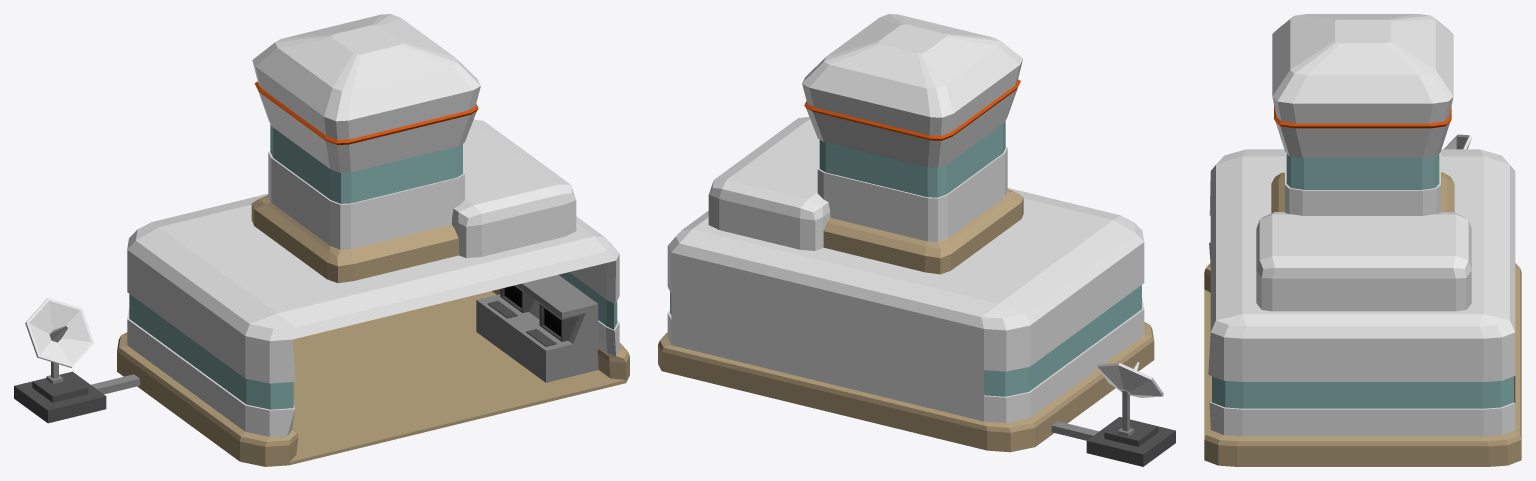
Rendered from SpaceControlCentre.fbx.
3 renders of one model, left to right at view 1: azimuth 30°, elevation 25°; view 2: azimuth 150°, elevation 25°; view 3: azimuth 270°, elevation 25°, orthographic. The views are drawn at different scales.
Parts seen in each view (by area): view 1: SpaceControlCentre; view 2: SpaceControlCentre; view 3: SpaceControlCentre.
Boxes of the visible parts, x1,y1,x2,y2 form: SpaceControlCentre: [14, 14, 629, 466]; SpaceControlCentre: [658, 14, 1175, 466]; SpaceControlCentre: [1204, 14, 1521, 466].
Size of the model in its own units: 847 by 546 by 464.
